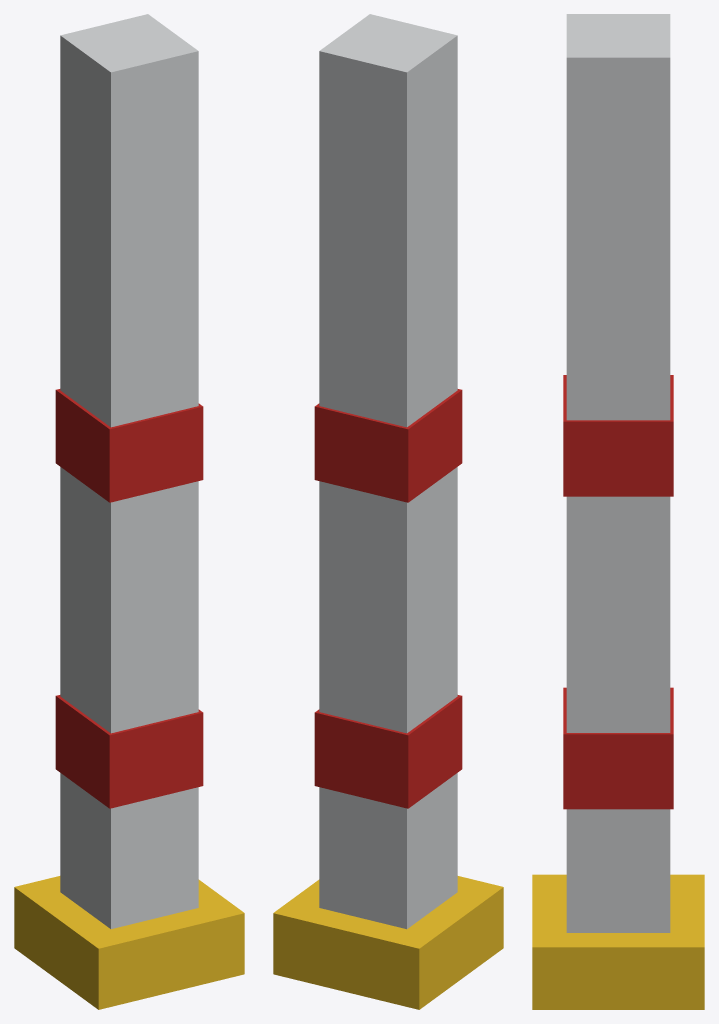
File: pos-pilar.gltf
3 views of the same model, side by side, from view 1: azimuth 30°, elevation 25°; view 2: azimuth 150°, elevation 25°; view 3: azimuth 270°, elevation 25° (orthographic). The views are drawn at different scales.
Parts seen in each view (by area): view 1: pos-pilar; view 2: pos-pilar; view 3: pos-pilar.
Part boxes in pixels (bbox=[...]): pos-pilar: bbox=[14, 14, 244, 1009]; pos-pilar: bbox=[273, 14, 503, 1009]; pos-pilar: bbox=[532, 14, 704, 1009].
Size of the model in its own units: 0.5 by 3 by 0.5.
